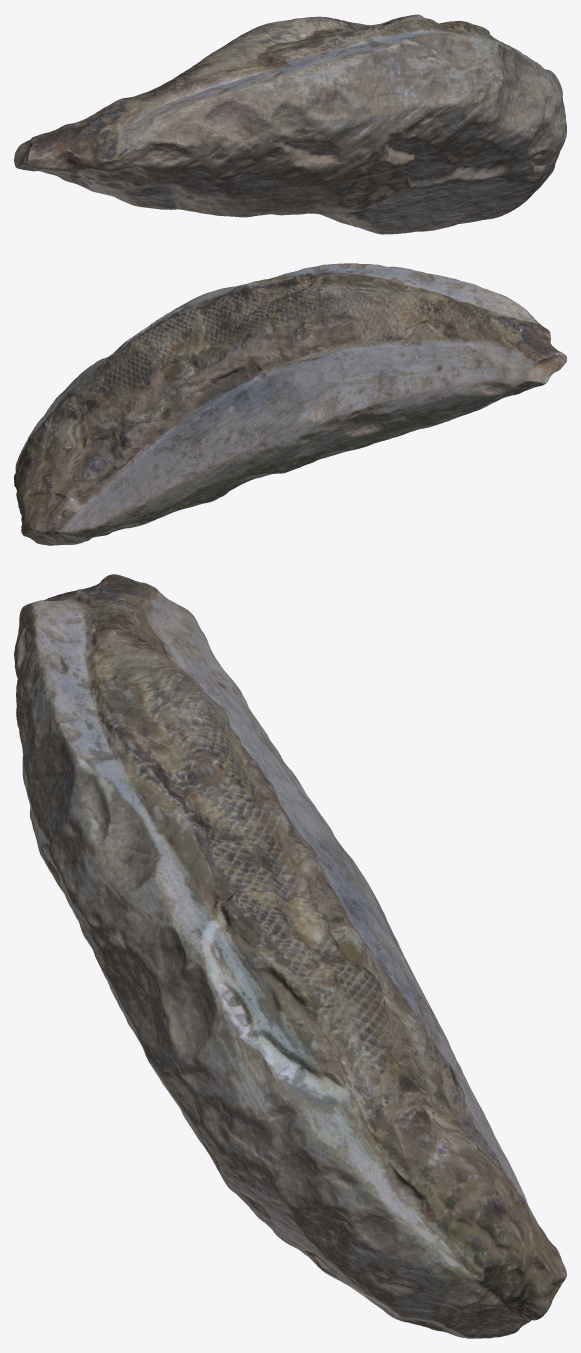
Rendered from FossilizedFish.fbx.
3 renders of one model, top to bottom at view 1: azimuth 30°, elevation 25°; view 2: azimuth 150°, elevation 25°; view 3: azimuth 270°, elevation 25°, orthographic. The views are drawn at different scales.
Parts seen in each view (by area): view 1: Model; view 2: Model; view 3: Model.
Boxes of the visible parts, x1,y1,x2,y2 form: Model: [14, 14, 566, 234]; Model: [14, 263, 566, 545]; Model: [14, 574, 566, 1338].
Bounding box in the file's own units: 3.43 × 1.95 × 1.73.
Materials: 1 (1 with a texture image).
